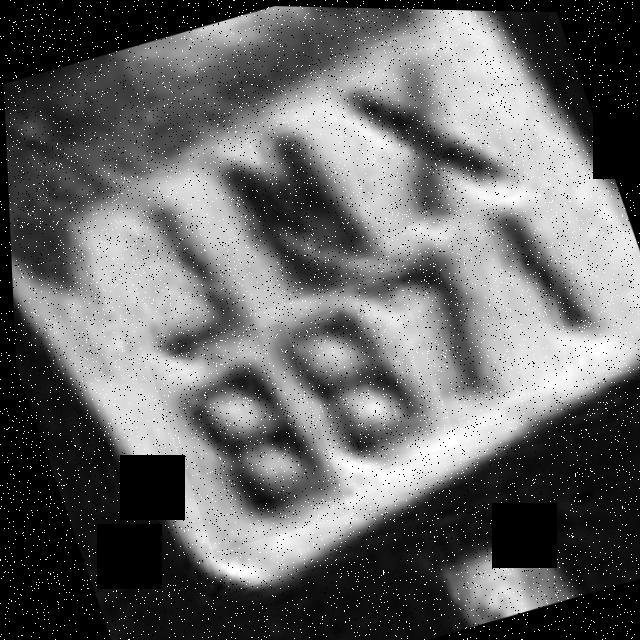1: (451, 168, 619, 370)
7: (340, 220, 522, 420)
8: (142, 317, 346, 554), (247, 267, 455, 487)
J: (71, 159, 264, 385)
X: (316, 18, 523, 235)
